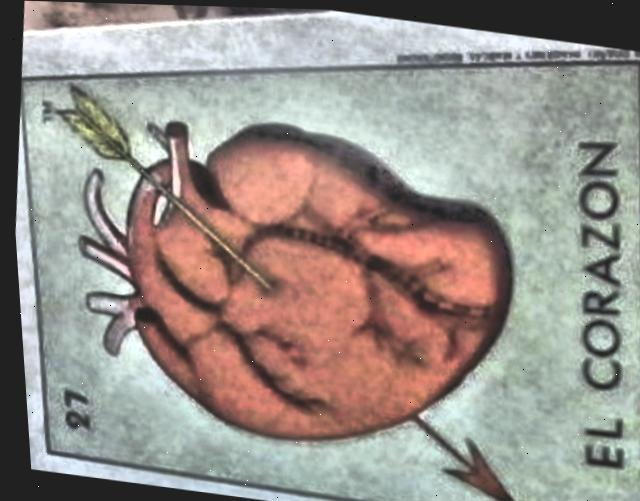El Corazon: (20, 58, 640, 501)
